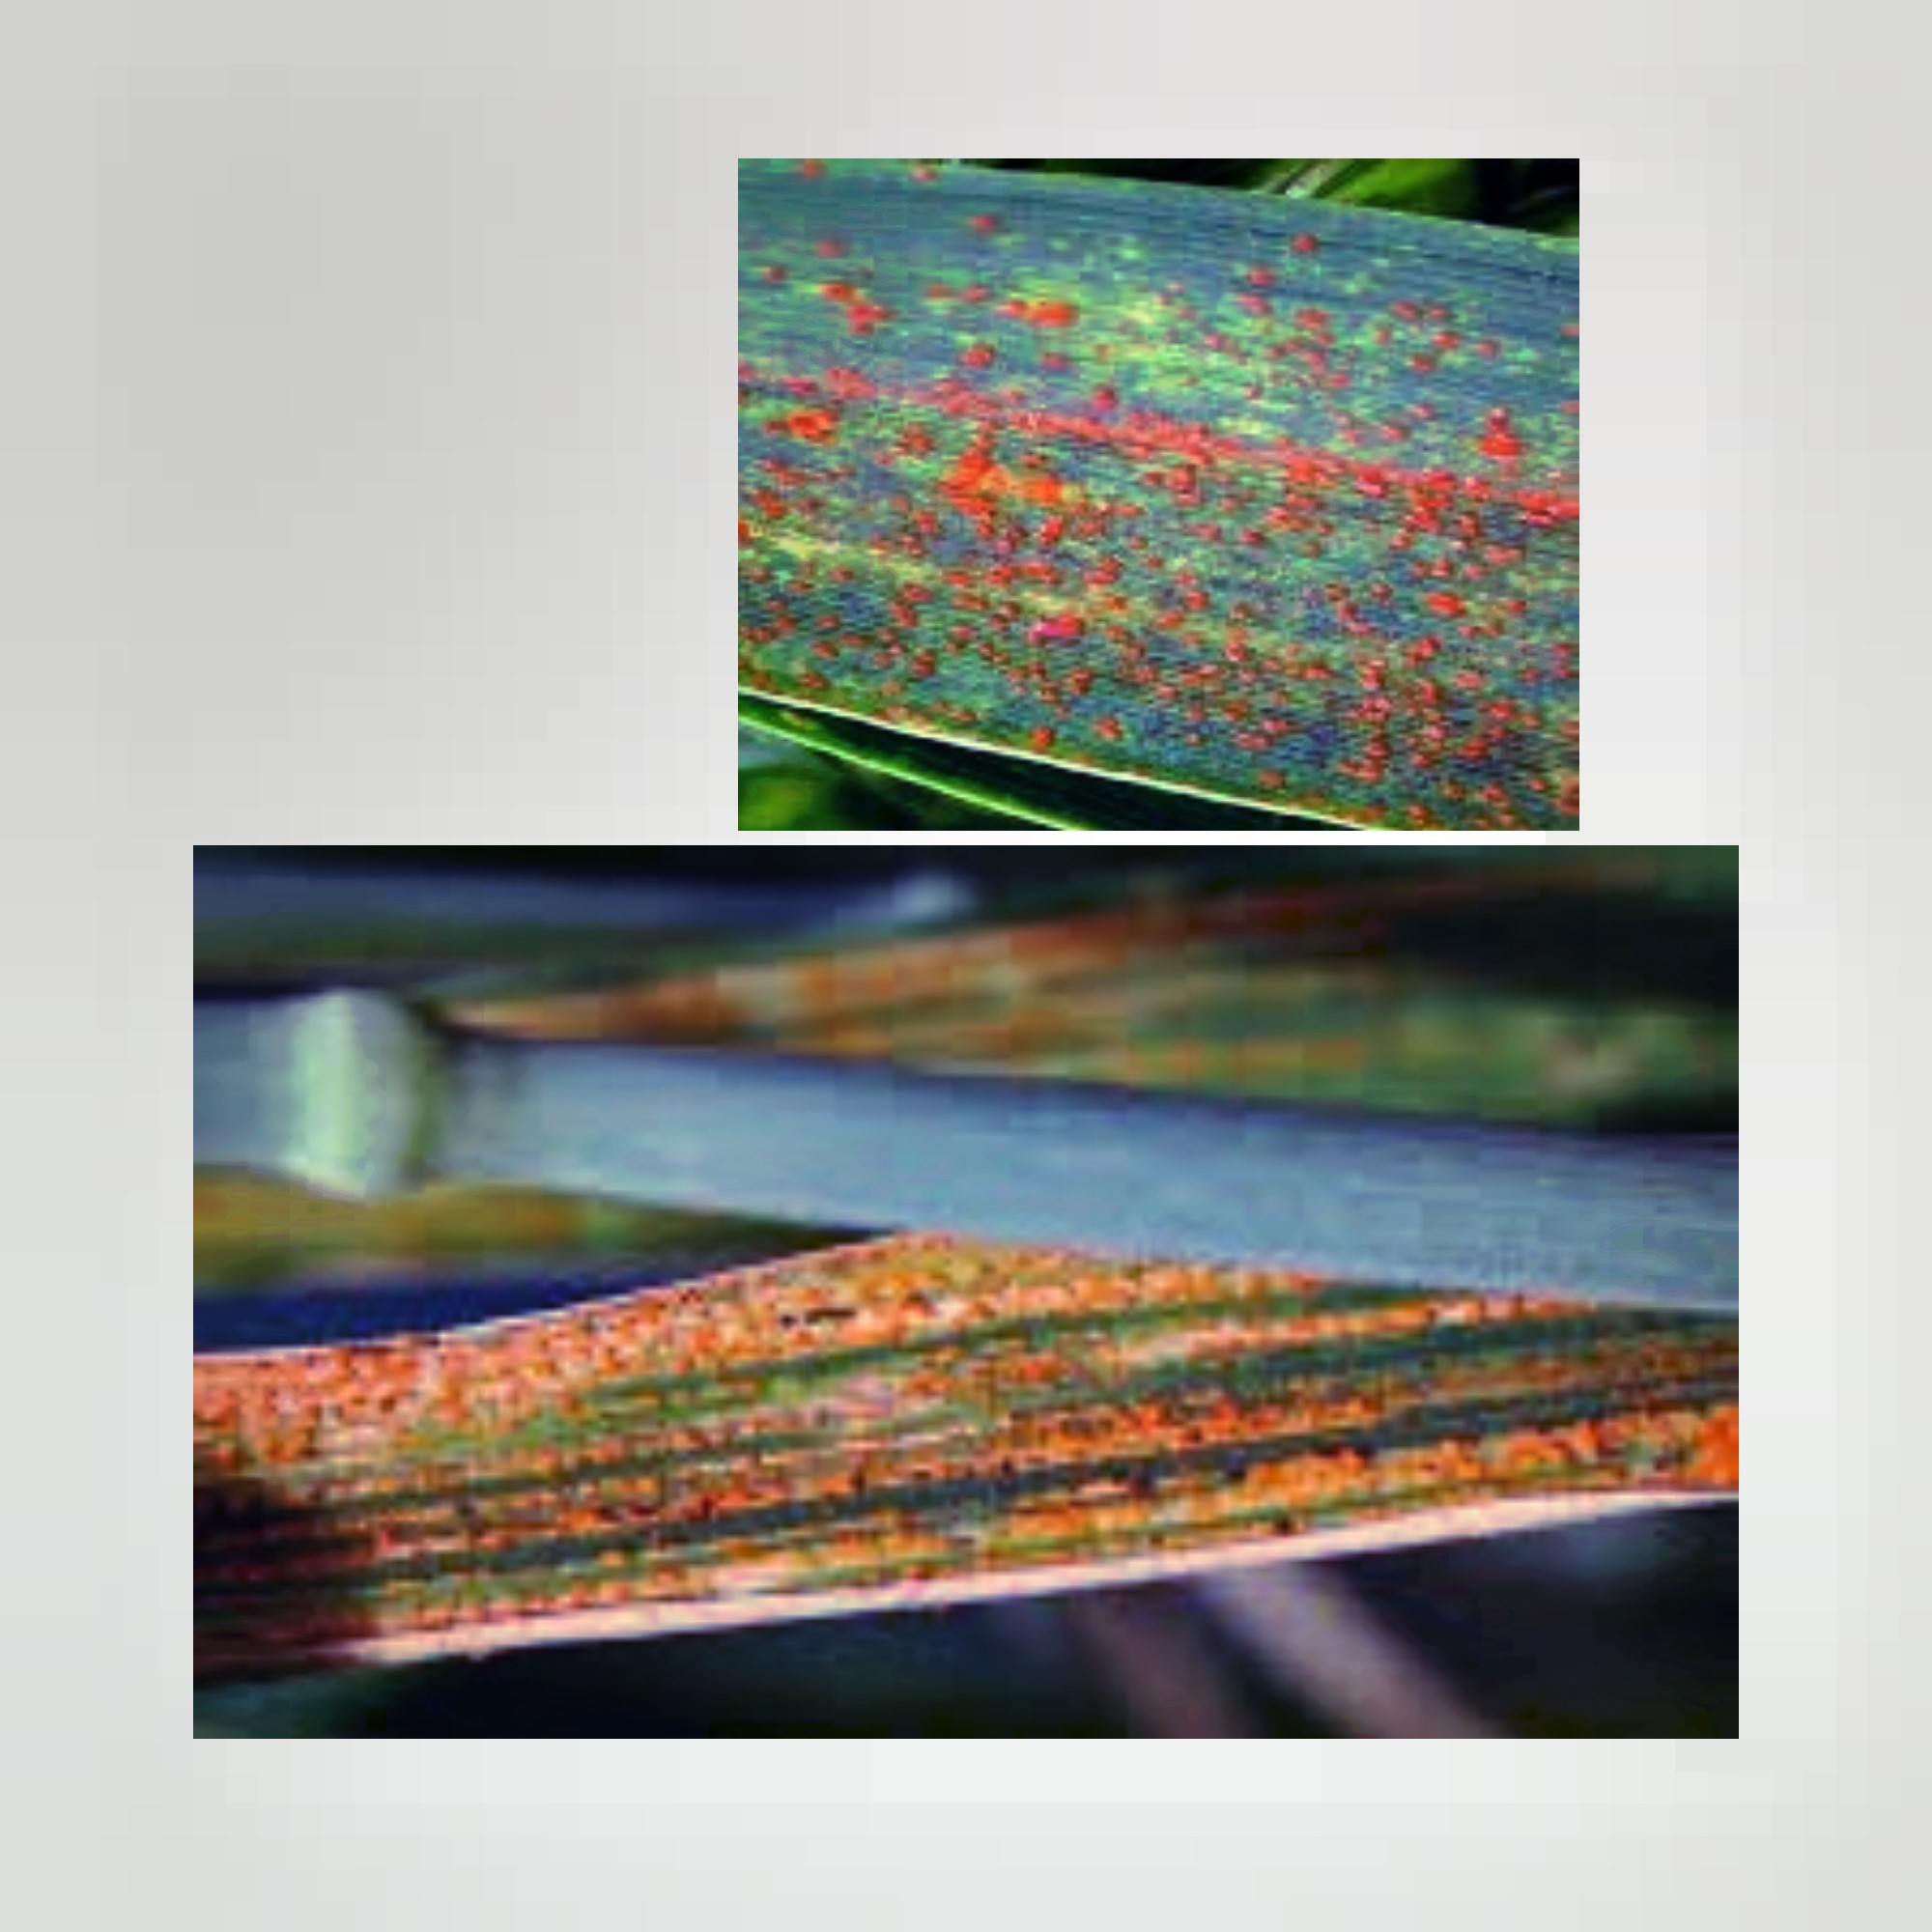Leaf Rust: (253, 1260, 1460, 1704), (775, 191, 1568, 832)
